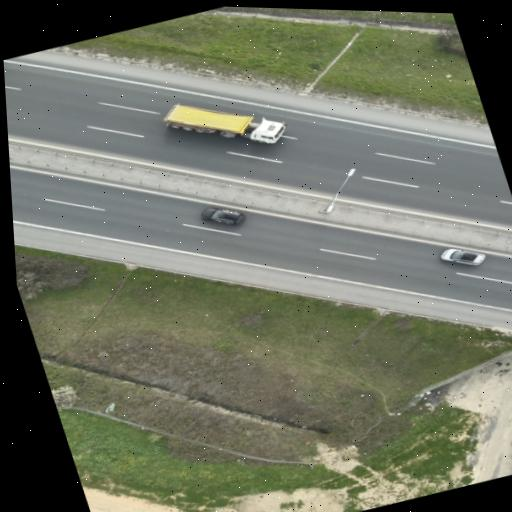car: (441, 249, 485, 265), (201, 208, 244, 224)
truck: (165, 105, 285, 143)
